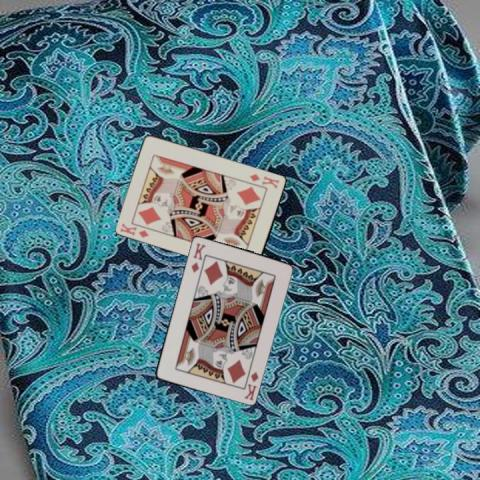Kd: (247, 171, 281, 190), (117, 220, 151, 239), (188, 240, 207, 273), (241, 368, 260, 401)
